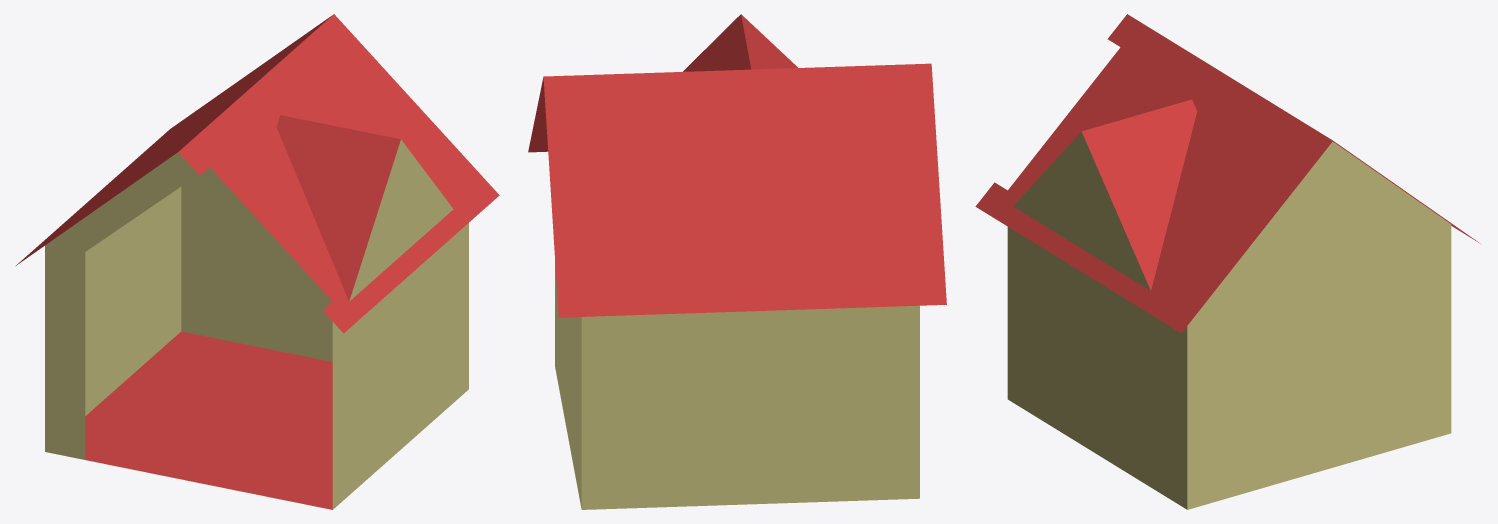
3 renders of one model, left to right at view 1: azimuth 30°, elevation 25°; view 2: azimuth 150°, elevation 25°; view 3: azimuth 270°, elevation 25°, orthographic. The views are drawn at different scales.
Bounding box in the file's own units: 21.81 × 21.84 × 16.07.
